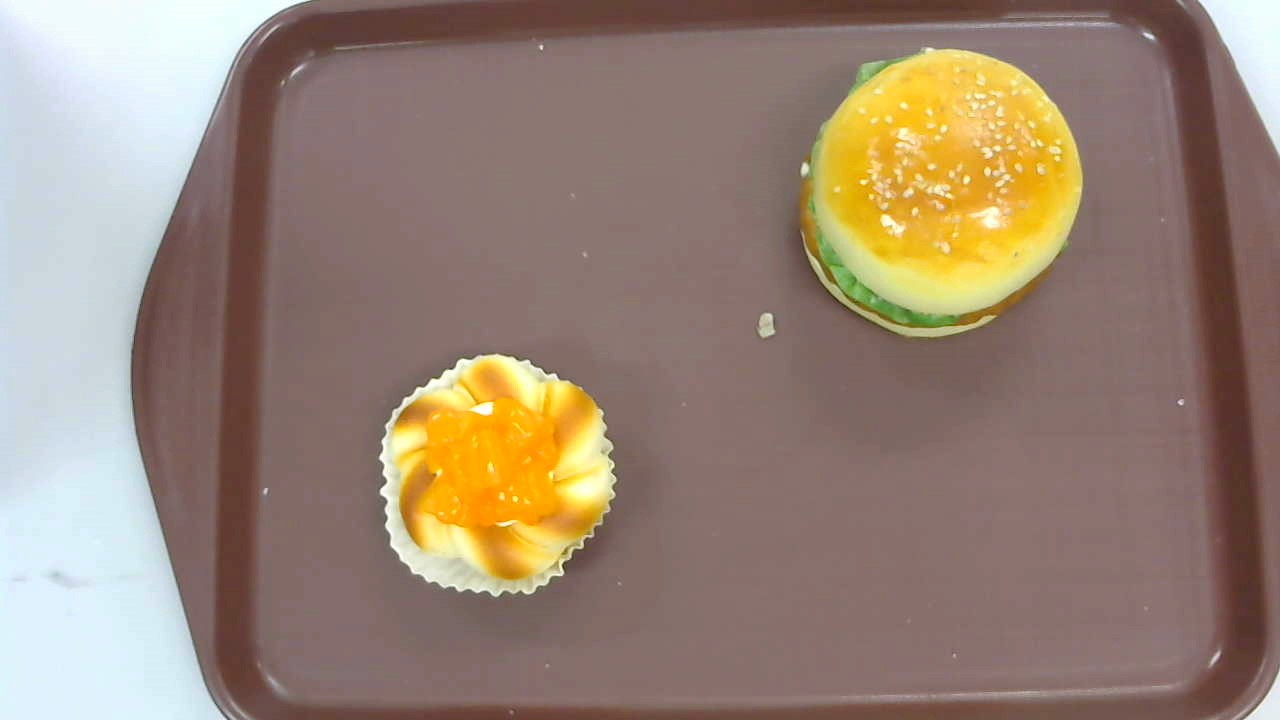hamburger: (799, 47, 1084, 338)
mango tart: (378, 356, 616, 597)
